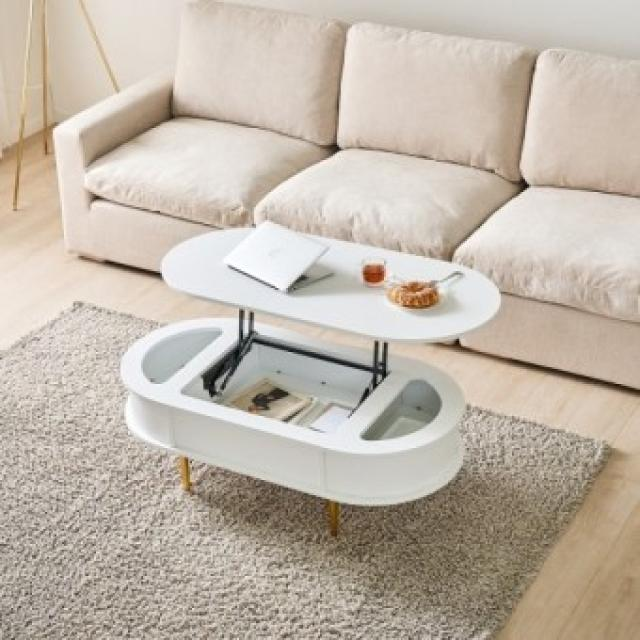Sofa: (50, 6, 639, 380)
Table: (90, 226, 501, 531)
